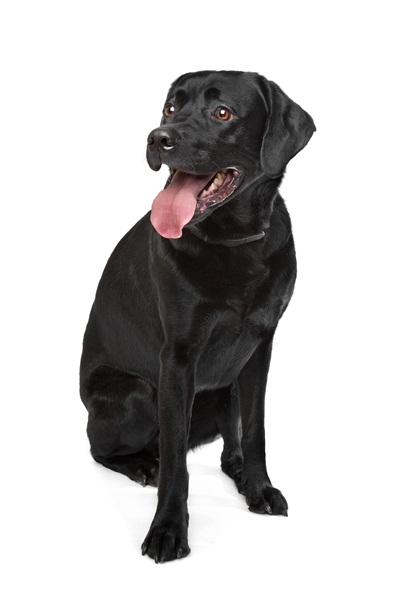dog: (139, 49, 325, 260)
